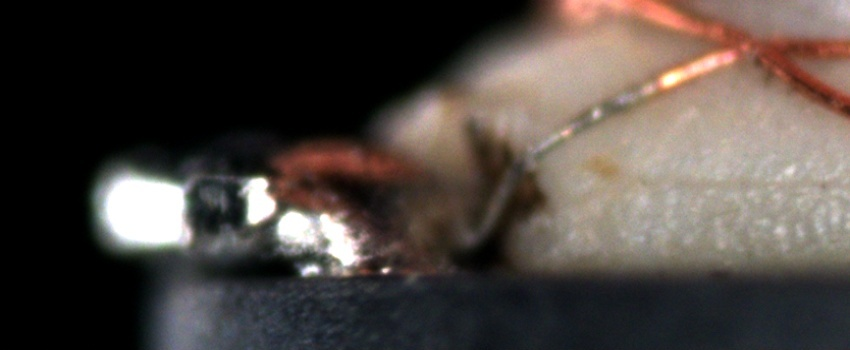DL: (618, 150, 850, 214)
TS: (527, 79, 661, 161)
